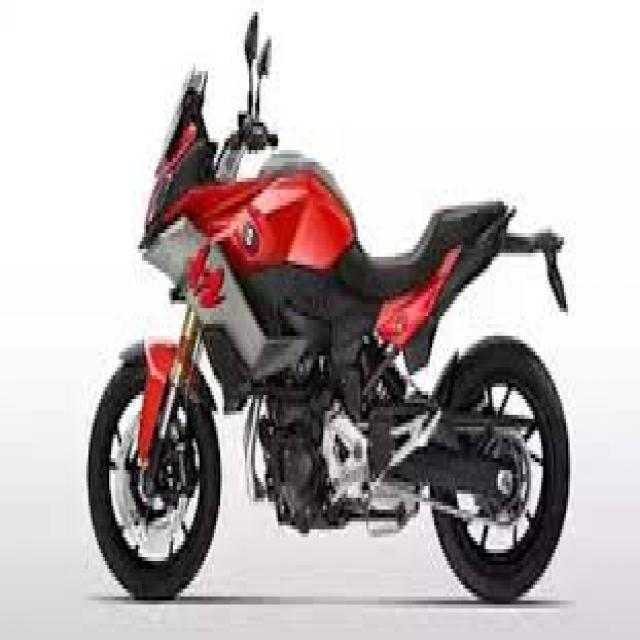Bike: (86, 11, 571, 607)
